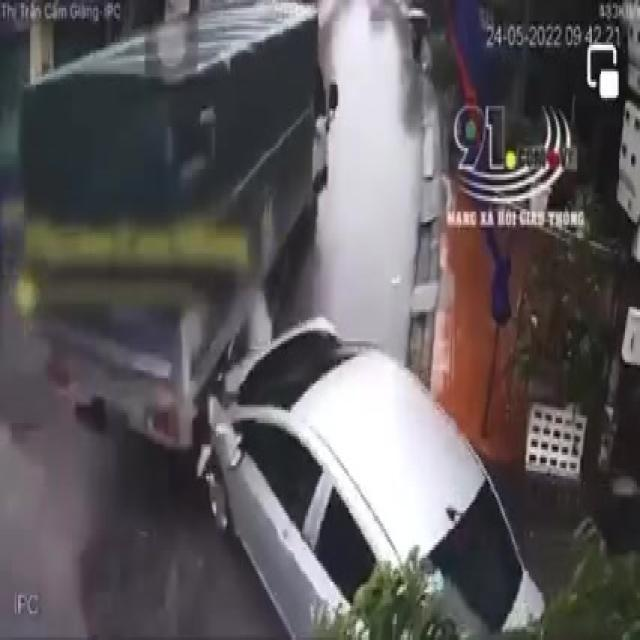multiple_accident: (21, 3, 548, 640)
